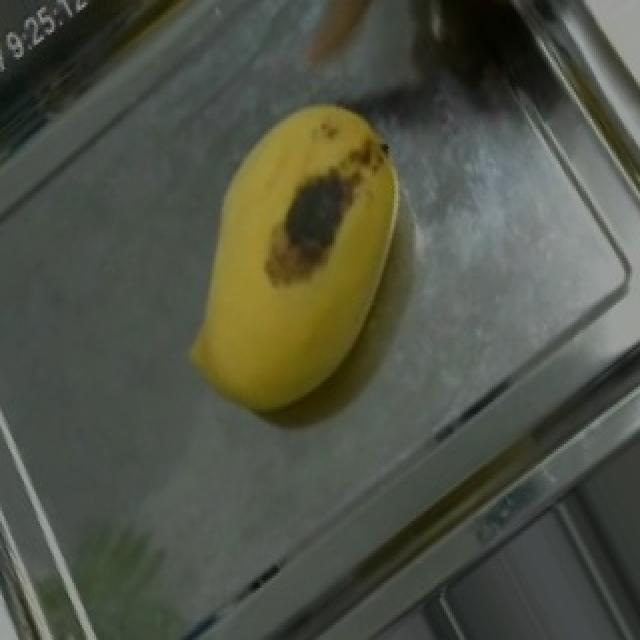fruit: (128, 62, 468, 466)
